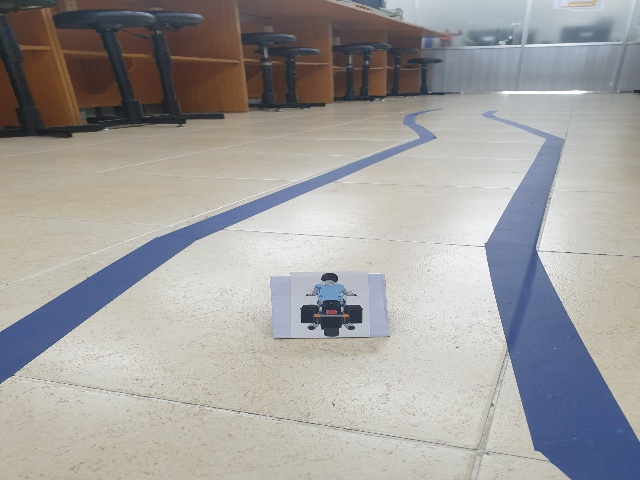Motorcycle: (281, 270, 379, 340)
